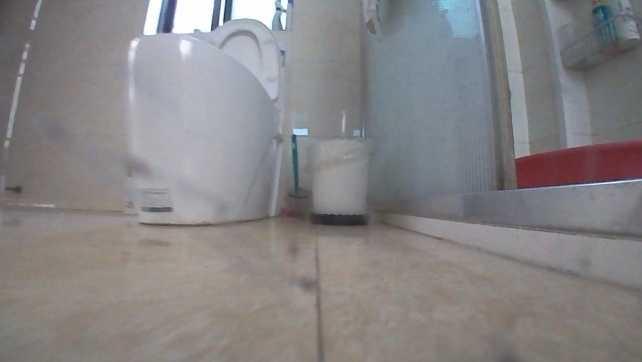toilet: (115, 15, 287, 225)
trash_can: (303, 130, 372, 228)
